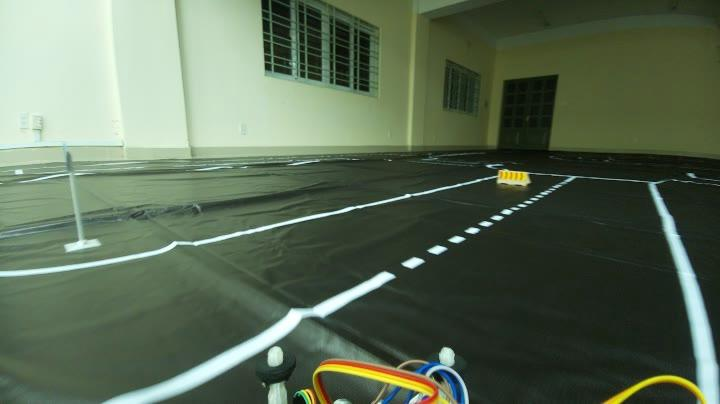roadblock: (494, 166, 536, 188)
